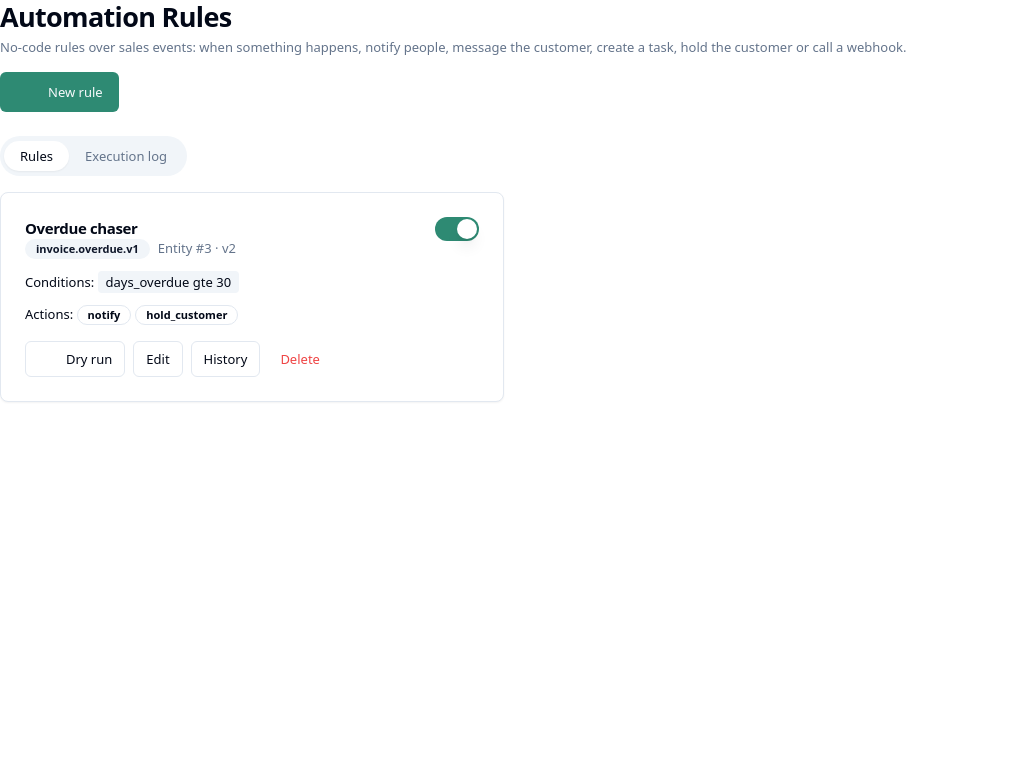
Test: AutomationRulesPage (#913) › dry-runs a rule and shows the condition evaluation and action preview
Click the button "Dry run" at [75, 359], box x1=25 y1=341 x2=125 y2=377
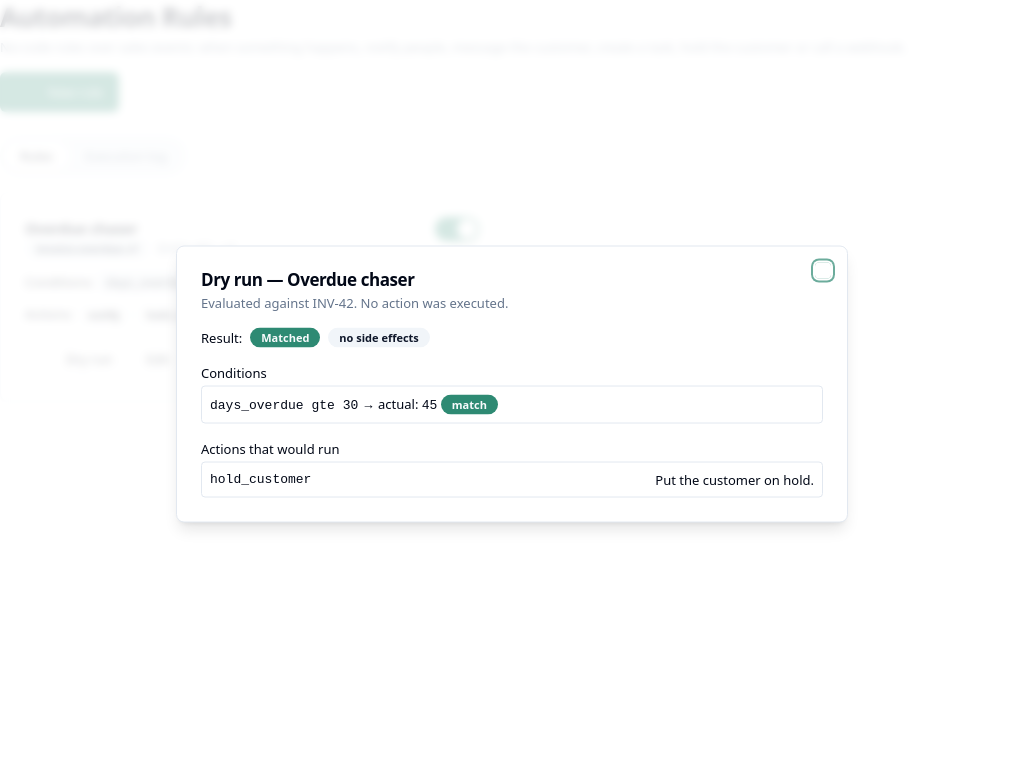
Expected: the text "Matched" is shown, x1=250 y1=328 x2=320 y2=348
Expected: the text "no side effects" is shown, x1=328 y1=328 x2=430 y2=348
Expected: the text "45" is shown, x1=422 y1=398 x2=437 y2=412
